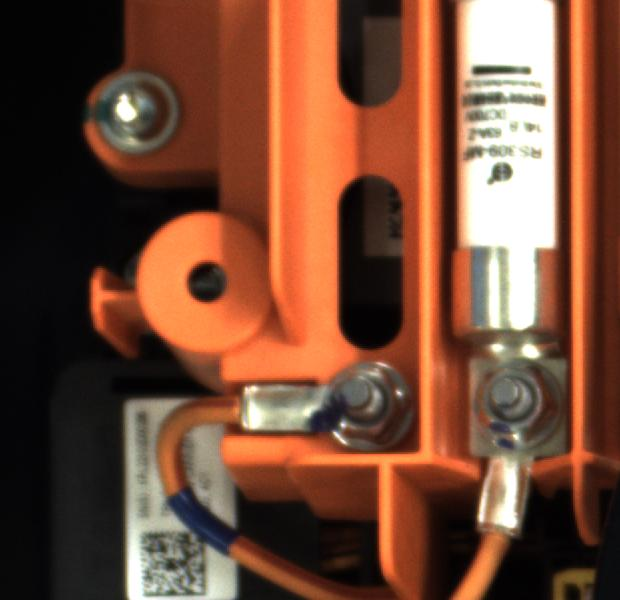screw_m: (90, 60, 196, 160)
screw_s: (313, 356, 410, 445), (468, 356, 562, 443)
